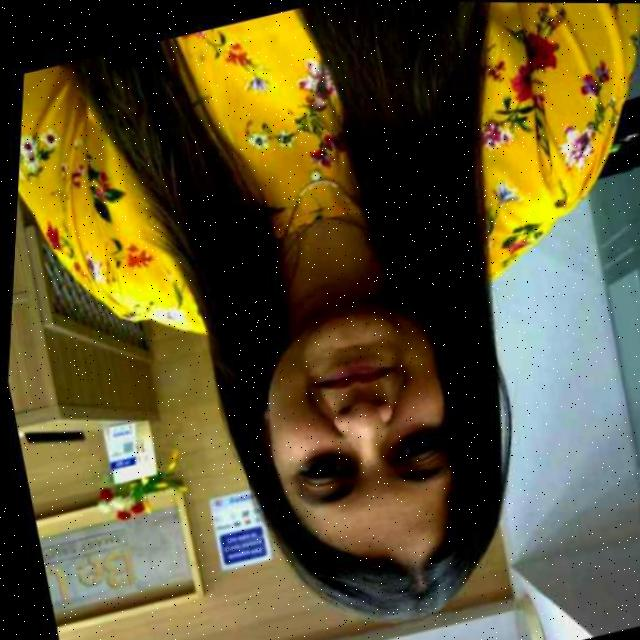puffy_eyes: (382, 426, 442, 452), (301, 454, 353, 476)
